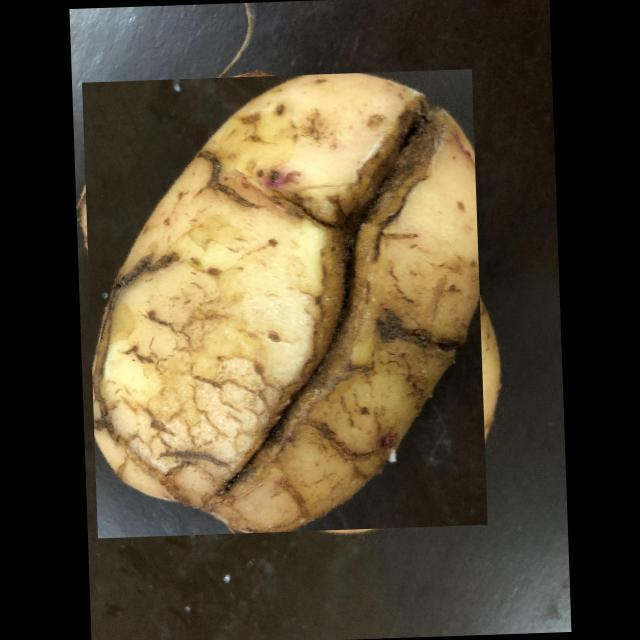Damaged potato: (81, 69, 488, 538)
